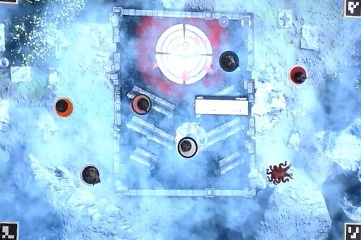blue: (79, 164, 101, 187)
brown_turquoise: (217, 52, 240, 75)
orange: (53, 96, 76, 119)
pink_green: (130, 92, 152, 115)
red: (285, 64, 308, 87)
white: (264, 160, 293, 186), (176, 135, 199, 158)
